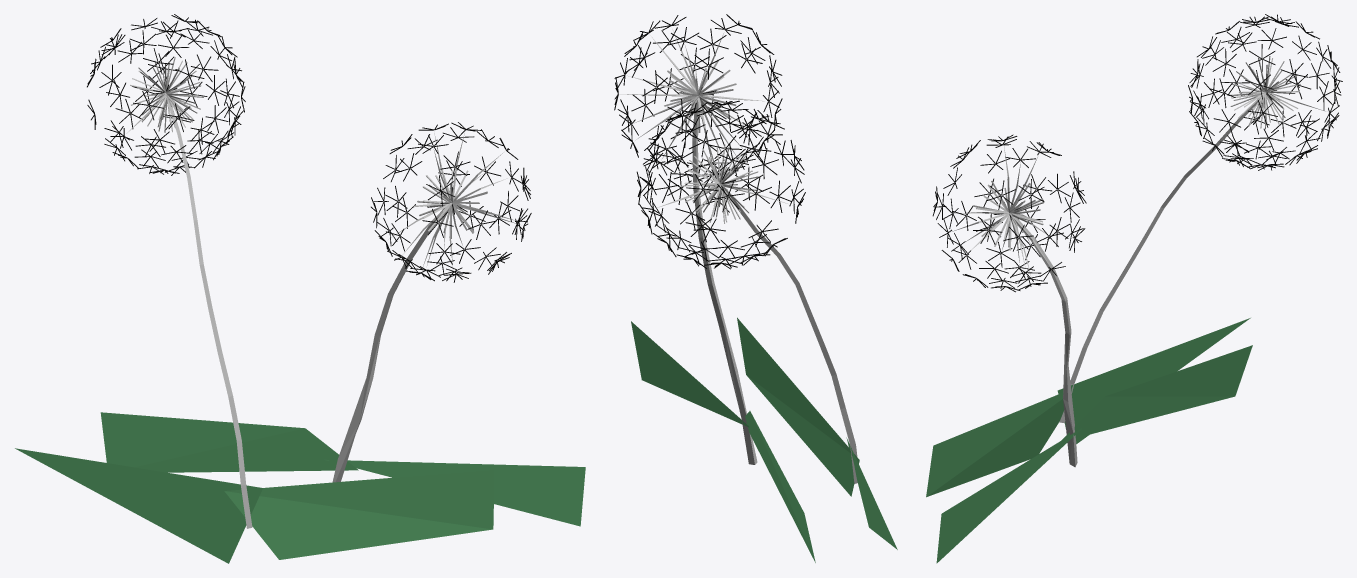
File: Dandelion.fbx
3 renders of one model, left to right at view 1: azimuth 30°, elevation 25°; view 2: azimuth 150°, elevation 25°; view 3: azimuth 270°, elevation 25°, orthographic. The views are drawn at different scales.
Visible parts, largest first — view 1: dandelion1Leaf, dandelion1Flower, dandelion1Main; view 2: dandelion1Leaf, dandelion1Flower, dandelion1Main; view 3: dandelion1Leaf, dandelion1Flower, dandelion1Main.
Part boxes in pixels (box(x1,y1,x2,y2)): dandelion1Leaf: box(15, 412, 585, 563); dandelion1Flower: box(87, 14, 531, 282); dandelion1Main: box(126, 57, 516, 528); dandelion1Leaf: box(631, 317, 897, 562); dandelion1Flower: box(614, 14, 805, 269); dandelion1Main: box(620, 29, 857, 483); dandelion1Leaf: box(926, 318, 1252, 563); dandelion1Flower: box(932, 14, 1342, 292); dandelion1Main: box(951, 56, 1325, 467).
Size of the model in its own units: 1.03 by 1.1 by 0.9298.
